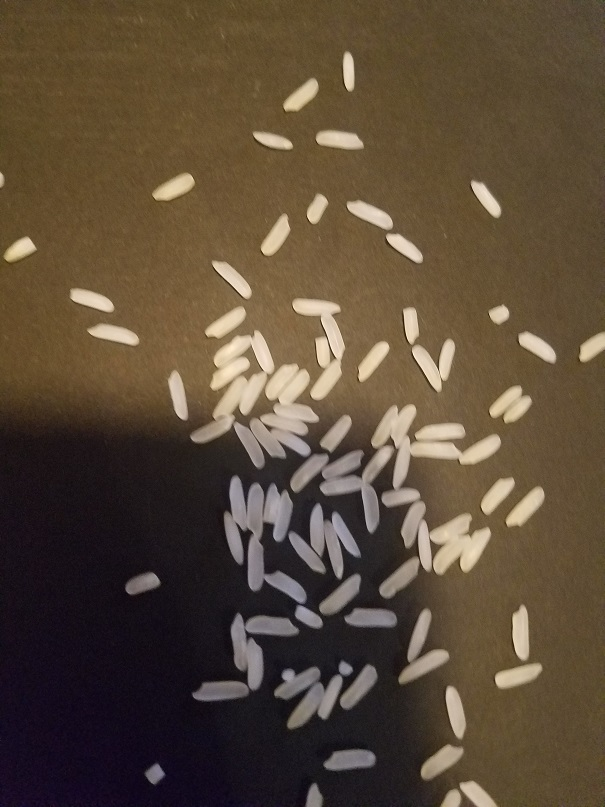egg: (395, 647, 450, 685), (377, 555, 423, 599), (338, 663, 380, 711), (320, 572, 362, 618), (418, 741, 463, 782), (286, 683, 324, 731), (505, 485, 545, 530), (210, 258, 253, 298), (247, 417, 287, 460), (433, 534, 473, 577), (345, 197, 395, 231), (272, 666, 320, 701), (287, 530, 325, 574), (231, 421, 265, 470), (411, 344, 443, 395), (213, 374, 248, 420), (289, 451, 327, 493), (428, 512, 473, 547), (331, 510, 363, 559), (353, 340, 390, 382), (308, 357, 343, 401), (480, 475, 516, 517), (204, 304, 247, 339), (260, 211, 292, 258), (189, 414, 237, 445), (460, 526, 491, 574), (404, 607, 430, 664), (237, 370, 268, 417), (444, 684, 470, 740), (361, 443, 394, 487), (457, 433, 501, 466), (318, 310, 347, 360), (151, 171, 196, 203), (398, 501, 427, 550), (494, 661, 543, 690), (281, 77, 320, 113), (211, 333, 250, 369), (85, 322, 141, 347), (209, 357, 250, 391), (369, 402, 398, 450), (263, 569, 306, 601), (517, 330, 557, 364), (468, 178, 501, 219), (278, 367, 311, 408), (320, 413, 353, 454), (264, 362, 299, 400), (487, 384, 524, 419), (323, 519, 344, 580), (228, 610, 249, 671), (383, 232, 424, 263), (272, 488, 295, 543), (321, 449, 363, 479), (221, 511, 244, 565), (68, 287, 115, 313), (245, 614, 298, 637), (389, 401, 417, 444), (511, 603, 531, 663), (316, 673, 341, 721), (191, 680, 248, 701), (259, 412, 310, 435), (248, 329, 274, 374), (167, 368, 189, 421), (227, 473, 247, 531), (391, 435, 412, 490), (460, 778, 501, 806), (359, 481, 380, 535), (273, 400, 320, 424), (290, 297, 343, 318), (321, 750, 376, 770), (343, 608, 397, 628), (247, 481, 265, 540), (3, 233, 37, 264), (314, 129, 364, 150), (270, 429, 311, 454), (410, 440, 463, 459), (319, 475, 364, 497), (247, 637, 264, 693), (436, 336, 456, 382), (247, 535, 263, 592), (124, 571, 160, 596), (503, 394, 534, 423), (252, 129, 294, 150), (414, 423, 465, 440), (400, 305, 421, 346), (380, 487, 421, 508), (417, 518, 432, 574), (310, 501, 324, 561), (293, 603, 324, 630), (304, 193, 329, 225), (263, 481, 280, 525), (311, 334, 330, 369), (341, 51, 355, 93), (141, 762, 166, 785), (306, 780, 327, 807), (488, 303, 509, 325), (440, 788, 464, 807), (280, 667, 297, 684), (338, 660, 353, 677)
